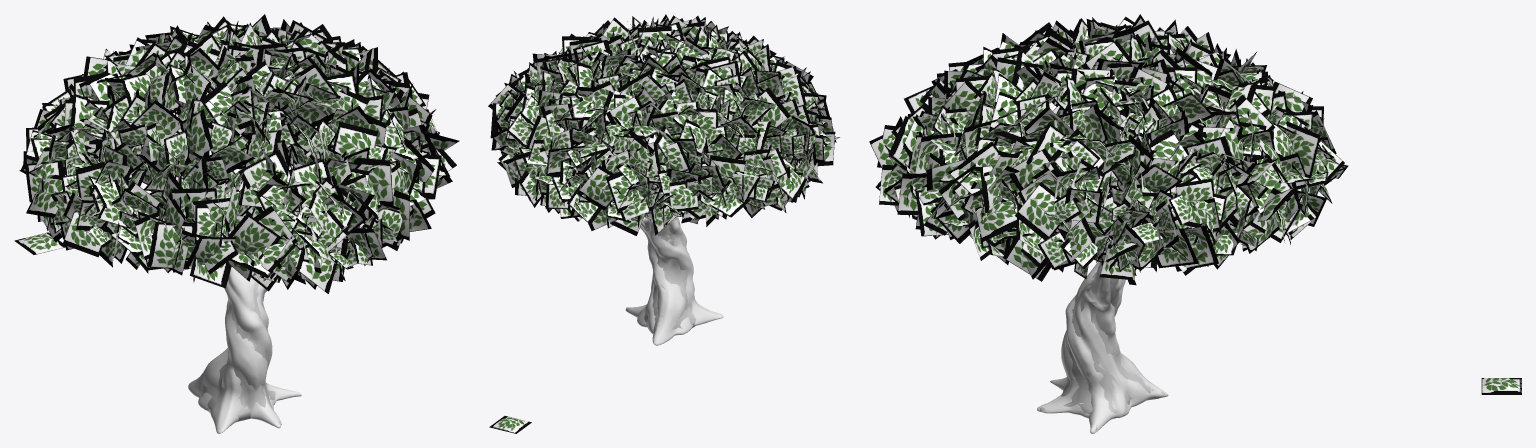
Rendered from WorldTree_ForestProp_001.fbx.
The picture shows the model from 3 angles, left to right: view 1: azimuth 30°, elevation 25°; view 2: azimuth 150°, elevation 25°; view 3: azimuth 270°, elevation 25°; orthographic projection. The views are drawn at different scales.
Parts seen in each view (by area): view 1: Mtree_hp, Mtree_lp, Leaf.628, Leaf.597, Leaf.432, Leaf.687, Leaf.442, Leaf.544, Leaf.516, Leaf.768, Leaf.530, Leaf.636 (+52 smaller); view 2: Mtree_hp, Mtree_lp, Leaf.995, Leaf.956, Leaf.902, Leaf.738, Leaf.072, Leaf.888, Leaf.084, Leaf.979, Leaf.829, Leaf.056 (+33 smaller); view 3: Mtree_hp, Mtree_lp, Leaf.312, Leaf.339, Leaf.056, Leaf.216, Leaf.365, Leaf.129, Leaf.414, Leaf.230, Leaf.196, Leaf.446 (+18 smaller).
Part boxes in pixels (x1,y1,x2,y2): Mtree_hp: (188,148,316,433); Mtree_lp: (199,277,281,424); Leaf.628: (147,222,195,268); Leaf.597: (229,213,282,254); Leaf.432: (330,121,378,158); Leaf.687: (129,100,182,146); Leaf.442: (353,158,393,205); Leaf.544: (238,150,288,213); Leaf.516: (296,247,337,293); Leaf.768: (26,174,63,217); Leaf.530: (288,158,329,210); Leaf.636: (180,109,212,161); Mtree_hp: (625,212,723,345); Mtree_lp: (626,217,695,340); Leaf.995: (576,165,613,210); Leaf.956: (605,166,641,212); Leaf.902: (668,180,698,212); Leaf.738: (752,87,790,127); Leaf.072: (525,115,568,156); Leaf.888: (657,141,690,171); Leaf.084: (513,147,547,177); Leaf.979: (606,95,642,125); Leaf.829: (709,155,745,182); Leaf.056: (546,146,585,176); Mtree_hp: (1037,261,1168,433); Mtree_lp: (1040,266,1165,430); Leaf.312: (1015,182,1060,239); Leaf.339: (975,190,1022,241); Leaf.056: (1286,121,1320,177); Leaf.216: (1155,228,1198,268); Leaf.365: (1009,148,1060,190); Leaf.129: (1183,136,1234,176); Leaf.414: (989,92,1020,140); Leaf.230: (1150,129,1192,178); Leaf.196: (1126,164,1182,199); Leaf.446: (897,173,926,215).
Bounding box in the file's own units: 2236 × 2000 × 3255.
